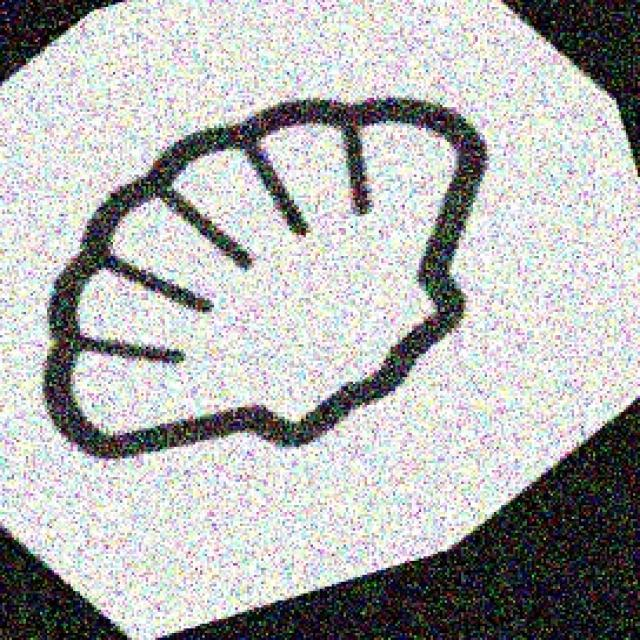shell: (38, 90, 511, 477)
